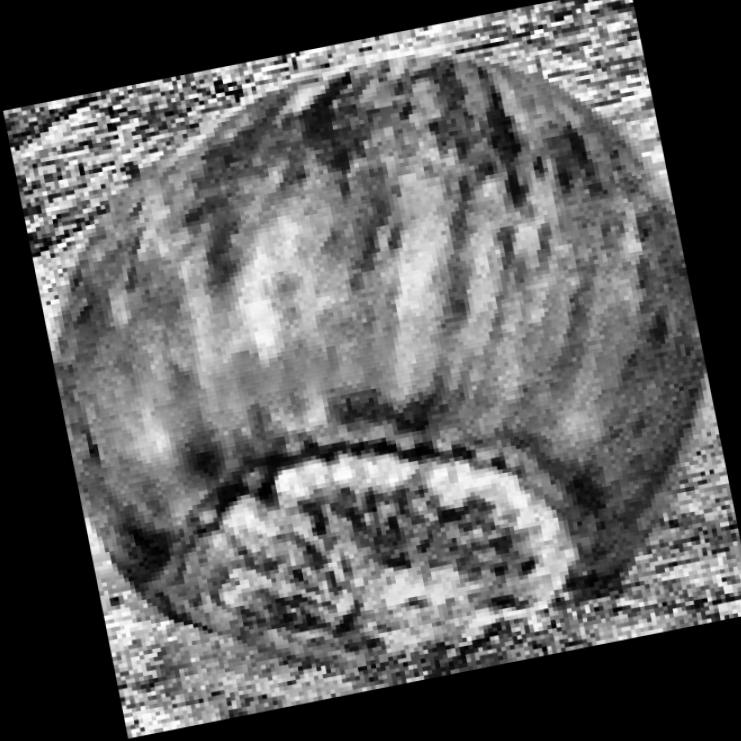qualityHazelnut: (0, 0, 741, 737)
